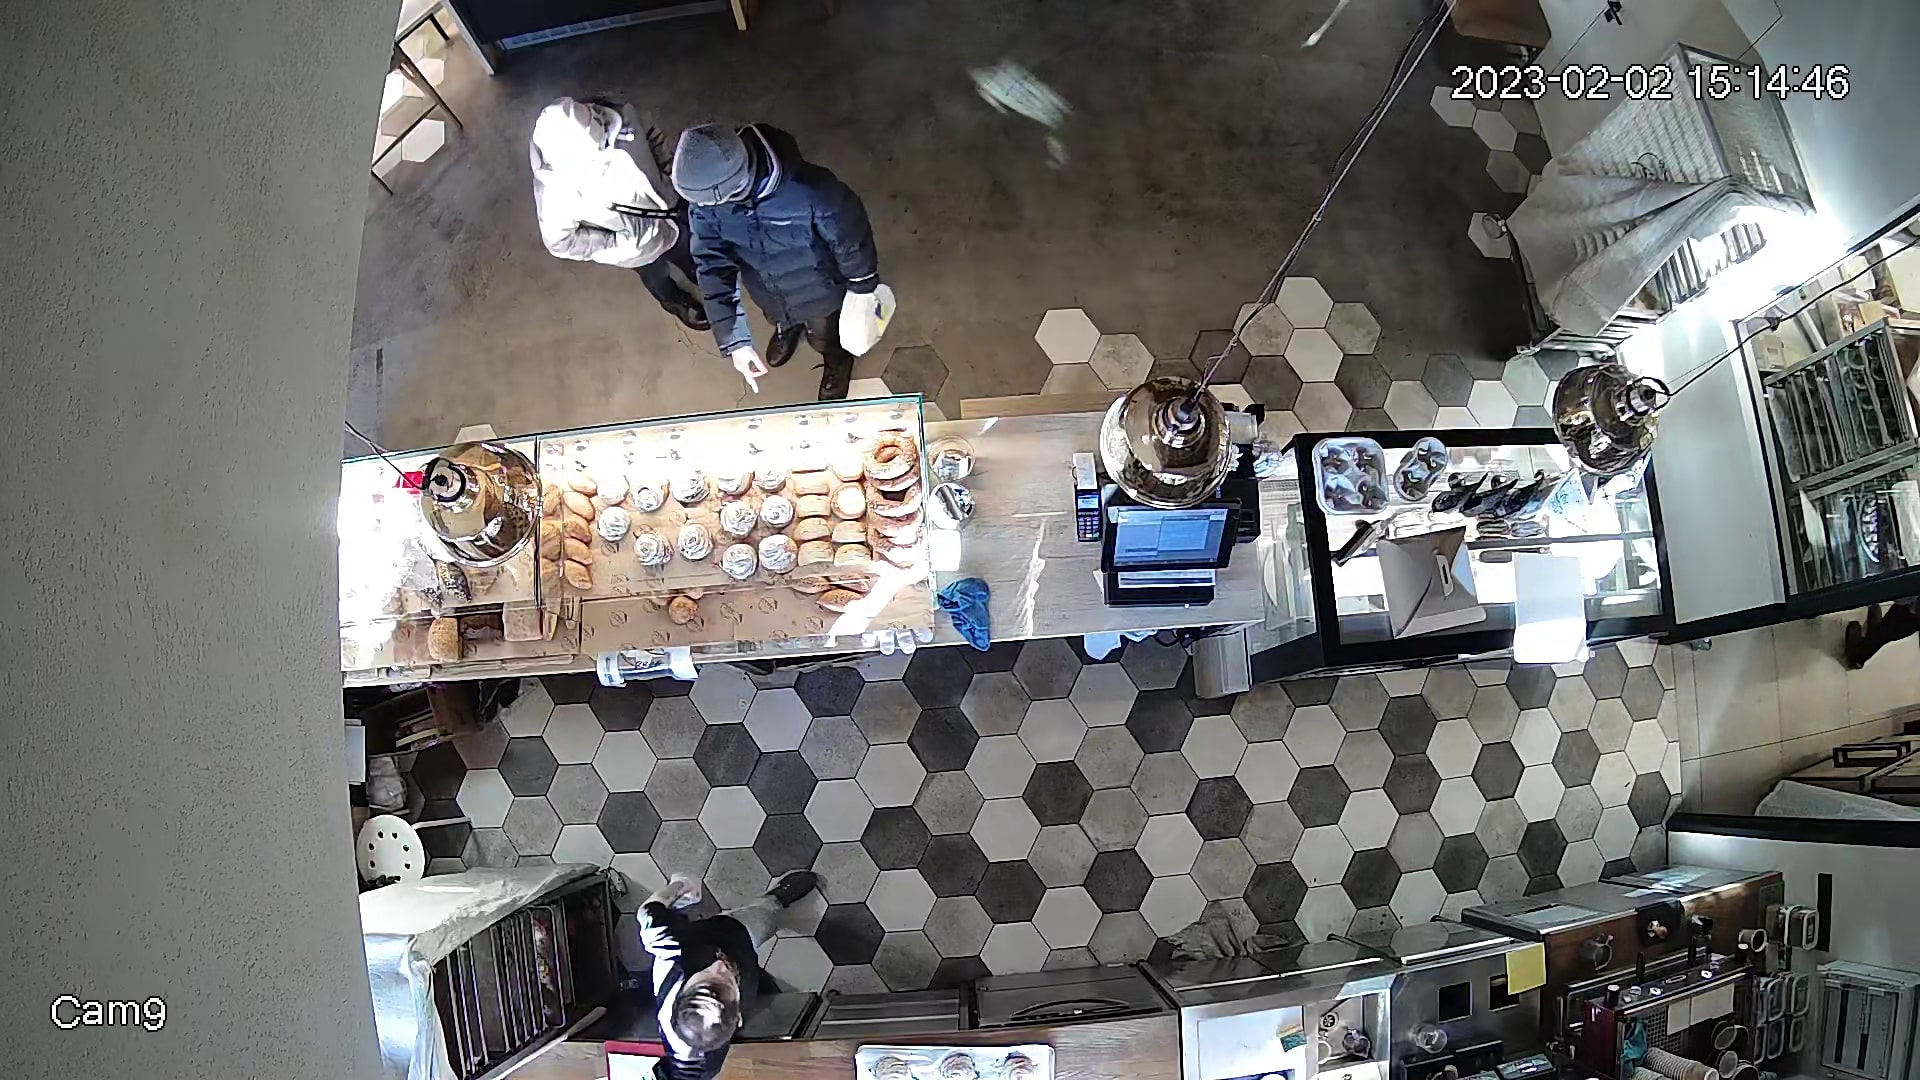barcounter: (342, 445, 1676, 683)
person: (663, 130, 905, 384), (482, 86, 711, 334), (617, 878, 842, 1045)
